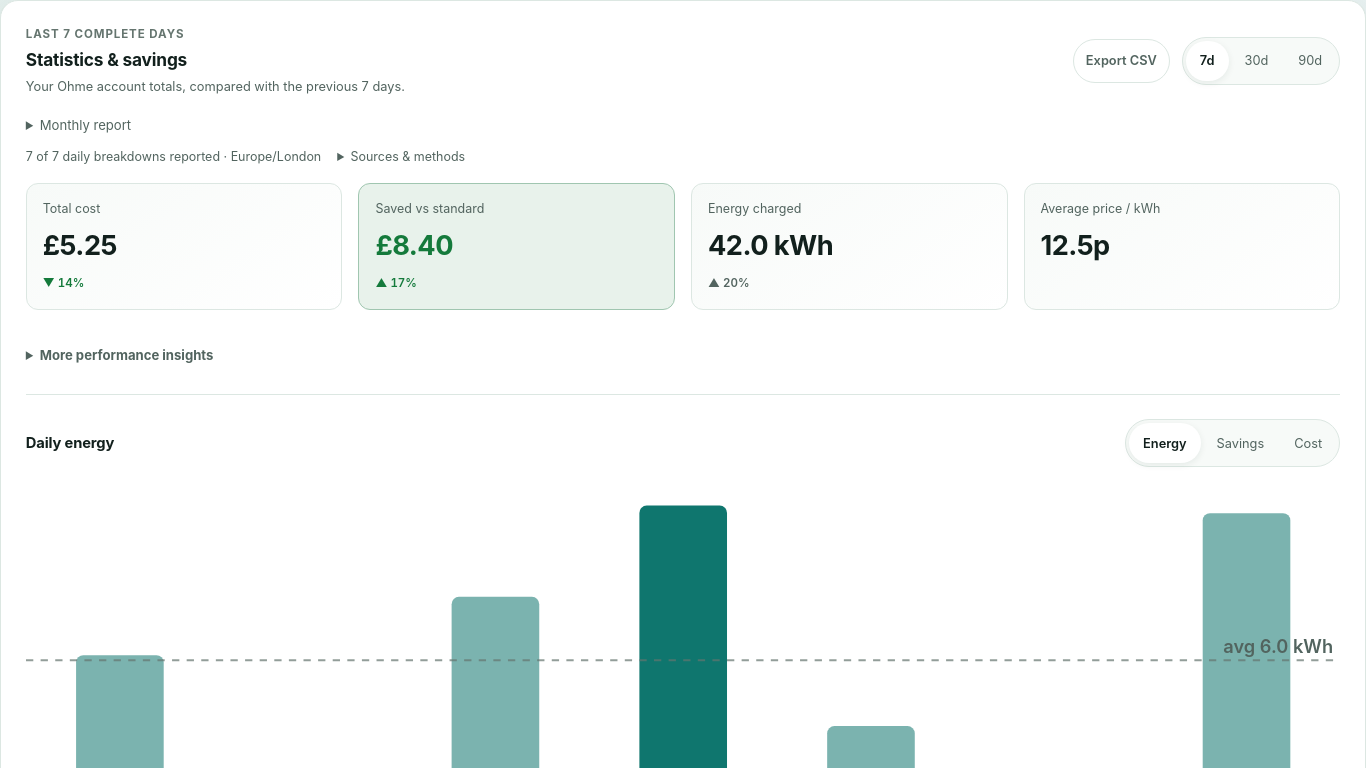
StatisticsSection insights › discloses the measured local interval coverage when available
Click the heading "Sources & methods". click: [401, 157]
box: [337,148,465,167]
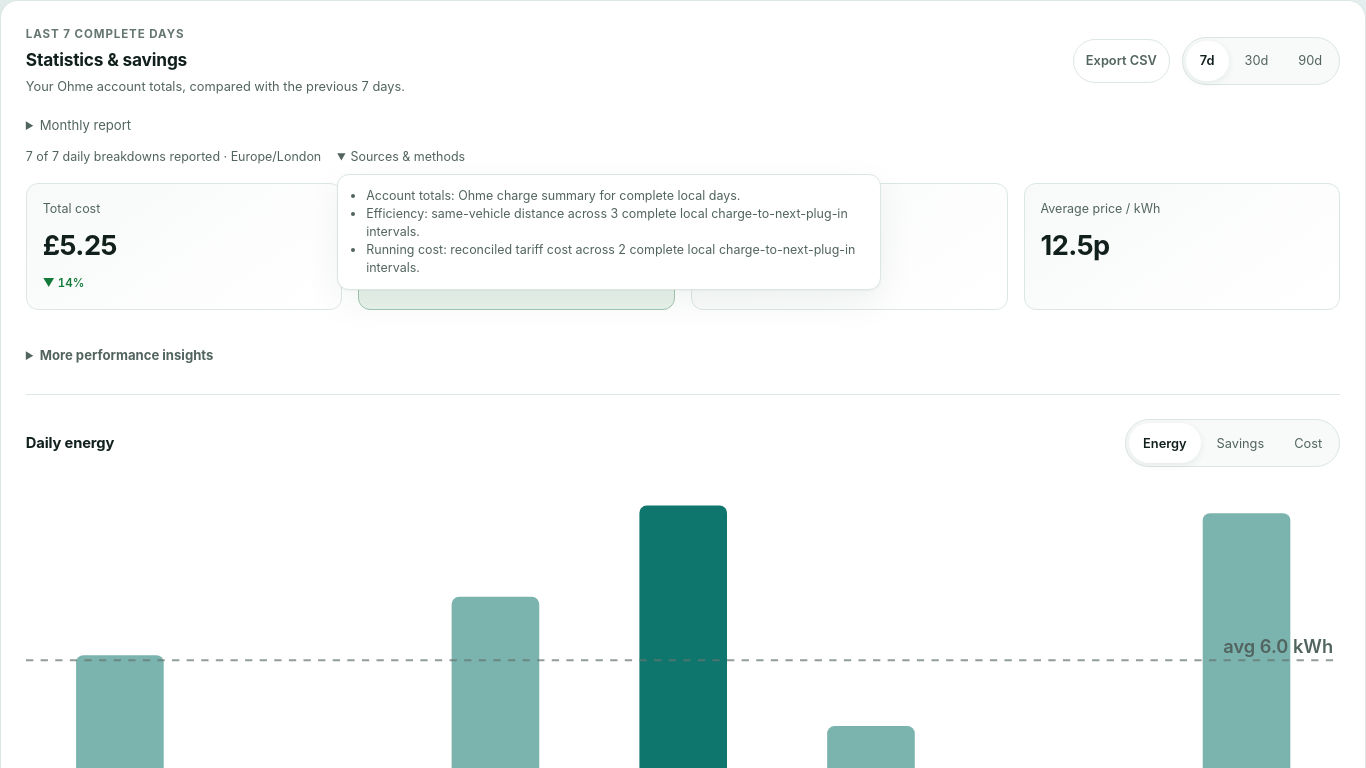
Now the list item "Efficiency: same-vehicle distance" shows "3 complete local charge-to-next-plug-in intervals", box [366,205,868,241]
Now the list item "Running cost: reconciled tariff cost" shows "2 complete local charge-to-next-plug-in intervals", box [366,241,868,277]
